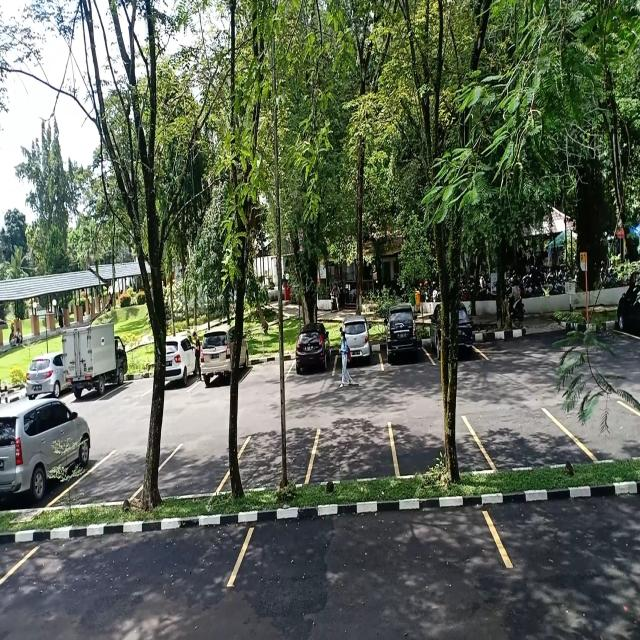empty: (241, 505, 503, 592), (0, 530, 254, 611), (479, 408, 577, 472), (238, 427, 320, 497), (394, 414, 481, 476), (314, 421, 396, 483), (159, 435, 230, 502), (80, 447, 152, 509), (246, 351, 292, 389)
occupied: (0, 418, 93, 510), (196, 334, 247, 392), (290, 329, 336, 382), (382, 318, 427, 369), (333, 322, 380, 368)
